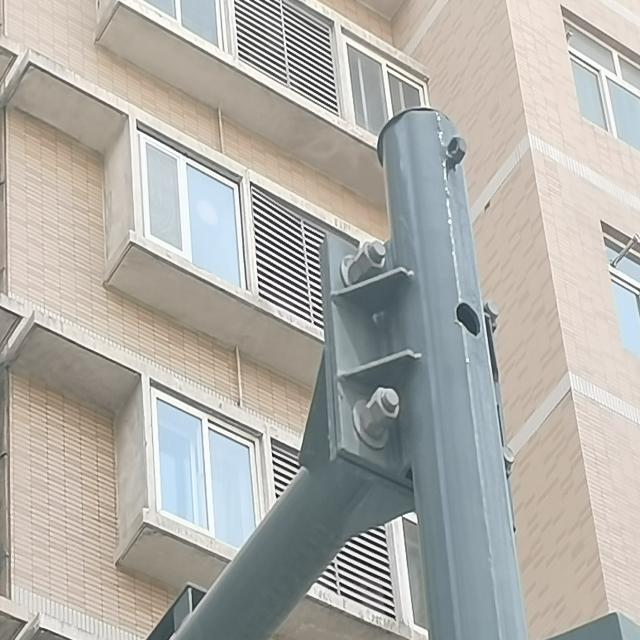bolt nut: (366, 384, 401, 430), (356, 240, 386, 280)
